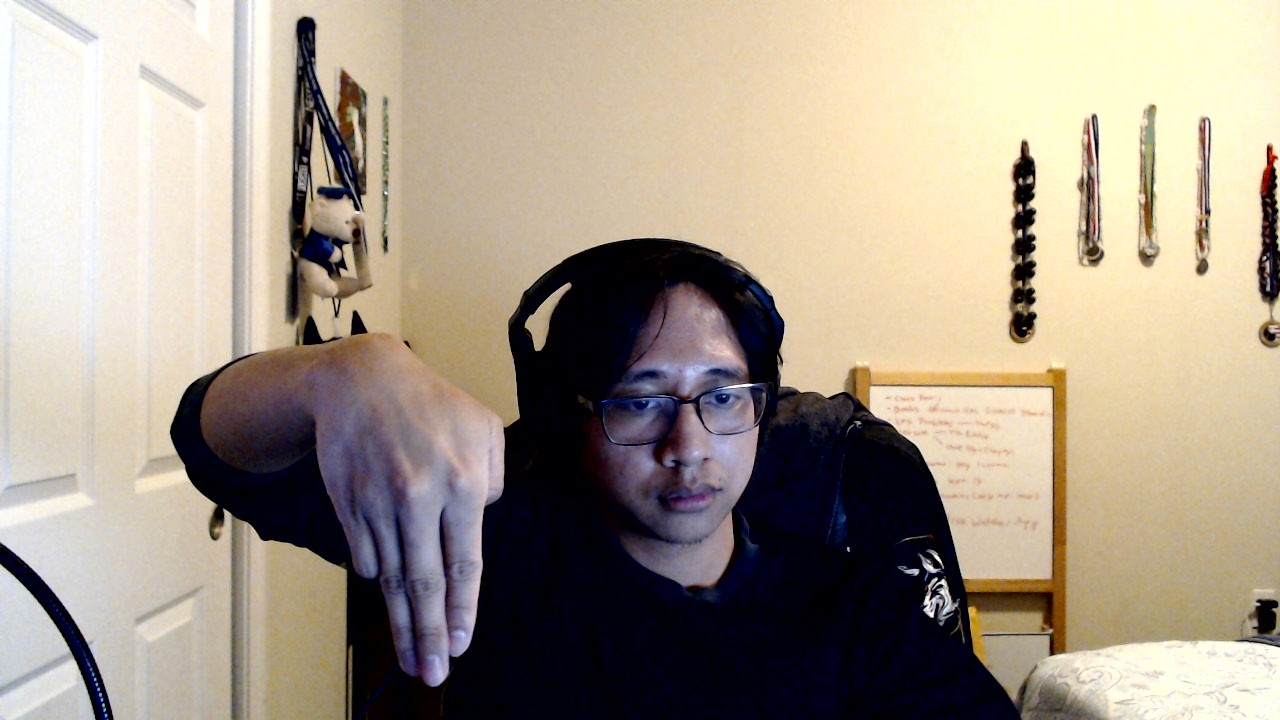m: (314, 332, 506, 688)
